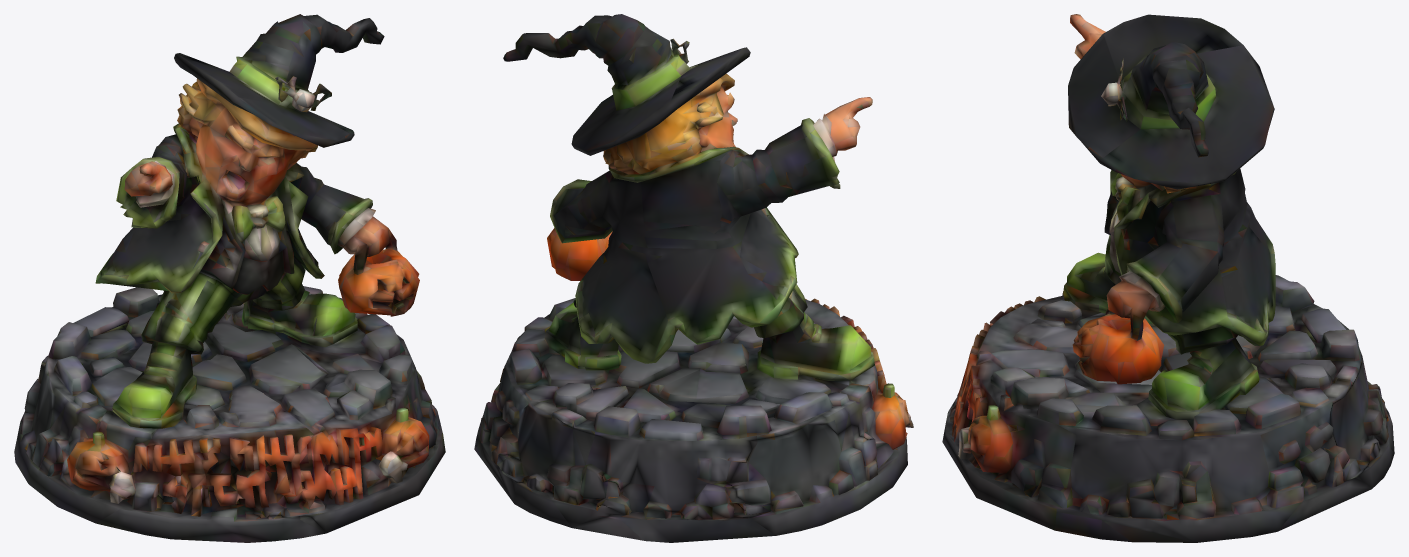
The model's file is warlock.lod.glb.
3 views of the same model, side by side, from view 1: azimuth 30°, elevation 25°; view 2: azimuth 150°, elevation 25°; view 3: azimuth 270°, elevation 25° (orthographic). The views are drawn at different scales.
Visible parts, largest first — view 1: tripo_node_a04eb198-31d1-423c-8a52-1ca07f72ce1d; view 2: tripo_node_a04eb198-31d1-423c-8a52-1ca07f72ce1d; view 3: tripo_node_a04eb198-31d1-423c-8a52-1ca07f72ce1d.
Boxes of the visible parts, x1,y1,x2,y2 form: tripo_node_a04eb198-31d1-423c-8a52-1ca07f72ce1d: (14,14,445,542); tripo_node_a04eb198-31d1-423c-8a52-1ca07f72ce1d: (474,14,913,542); tripo_node_a04eb198-31d1-423c-8a52-1ca07f72ce1d: (942,14,1394,542).
Bounding box in the file's own units: 2.75 × 2.94 × 2.77.
Materials: 1 (1 with a texture image).
